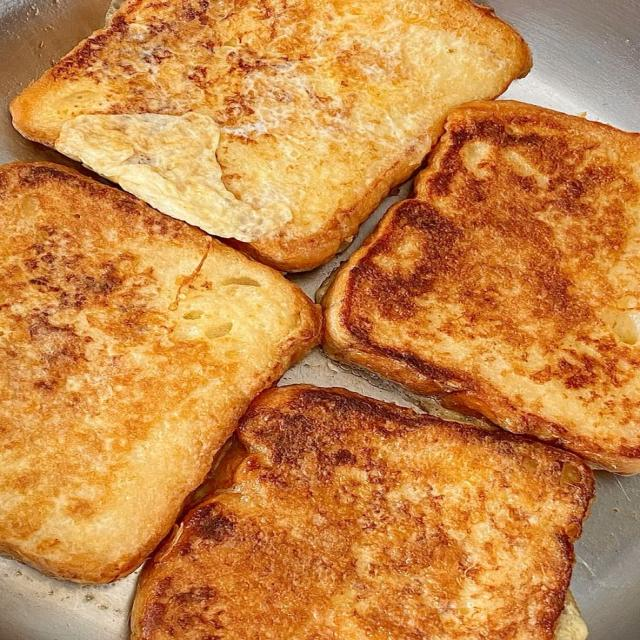toast bread: (12, 0, 530, 270), (0, 164, 320, 582), (323, 102, 639, 473), (132, 386, 593, 639)
